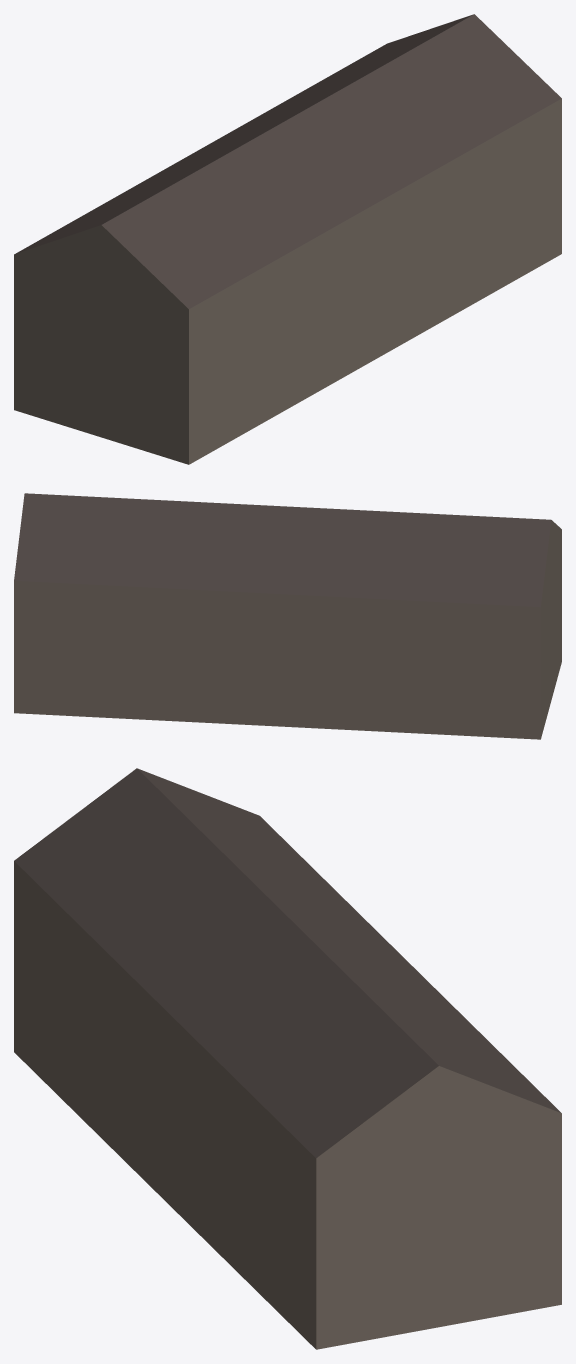
The picture shows the model from 3 angles, top to bottom: view 1: azimuth 30°, elevation 25°; view 2: azimuth 150°, elevation 25°; view 3: azimuth 270°, elevation 25°; orthographic projection. The views are drawn at different scales.
Parts seen in each view (by area): view 1: HP-w373833587; view 2: HP-w373833587; view 3: HP-w373833587.
Part boxes in pixels (x1,y1,x2,y2): HP-w373833587: [14, 14, 561, 464]; HP-w373833587: [14, 493, 561, 739]; HP-w373833587: [14, 768, 561, 1349].
Bounding box in the file's own units: 34.57 × 12.3 × 23.36.
